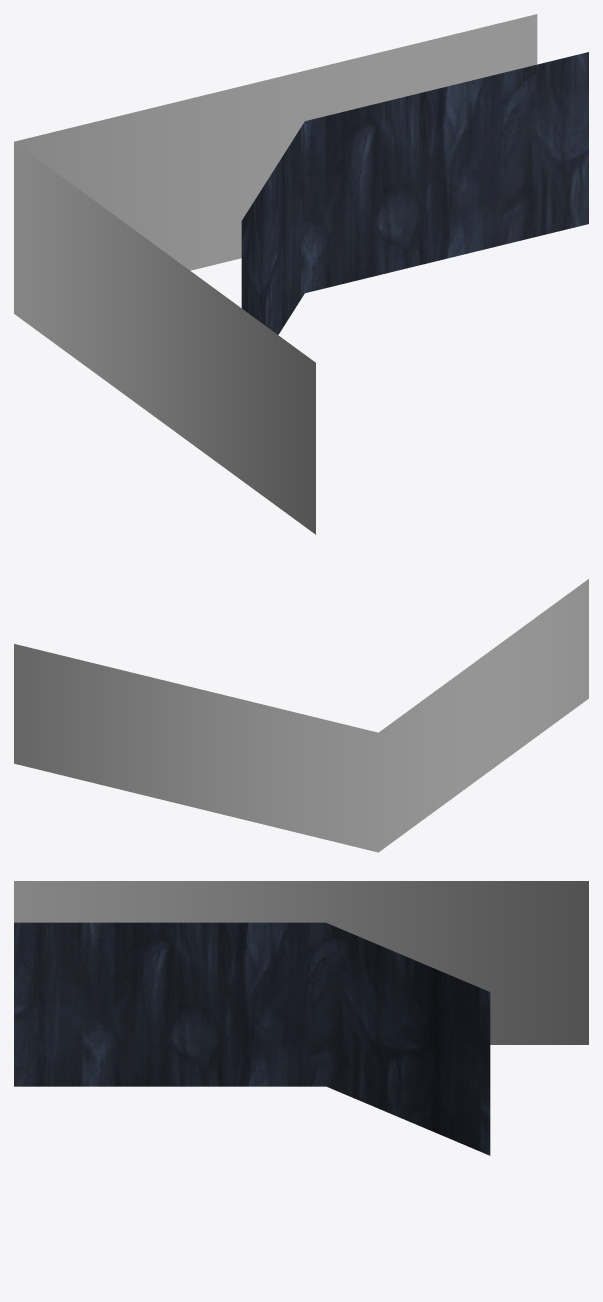
Rendered from mine_quarter_concave_01.fbx.
The picture shows the model from 3 angles, top to bottom: view 1: azimuth 30°, elevation 25°; view 2: azimuth 150°, elevation 25°; view 3: azimuth 270°, elevation 25°; orthographic projection. The views are drawn at different scales.
Visible parts, largest first — view 1: mine_quarter_concave_01-0; view 2: mine_quarter_concave_01-0; view 3: mine_quarter_concave_01-0.
Part boxes in pixels (box(x1,y1,x2,y2)): mine_quarter_concave_01-0: box(14, 14, 588, 534); mine_quarter_concave_01-0: box(14, 579, 588, 852); mine_quarter_concave_01-0: box(14, 881, 588, 1155).
Size of the model in its own units: 4.38 by 1.38 by 4.38.
